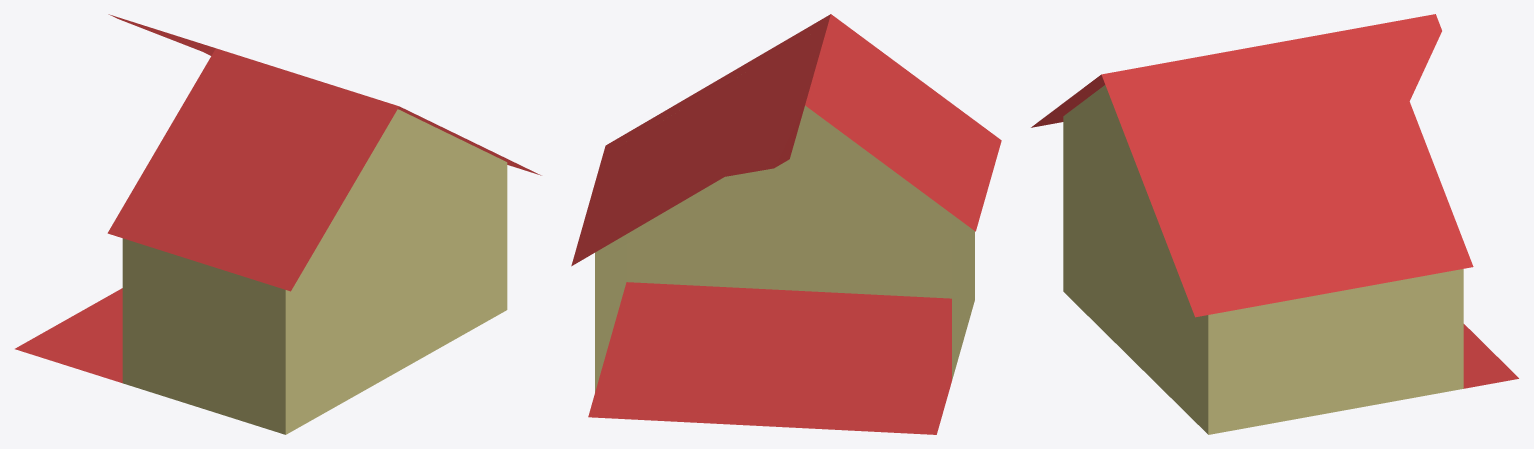
3 views of the same model, side by side, from view 1: azimuth 30°, elevation 25°; view 2: azimuth 150°, elevation 25°; view 3: azimuth 270°, elevation 25° (orthographic). The views are drawn at different scales.
Size of the model in its own units: 20.06 by 19.42 by 12.34.
